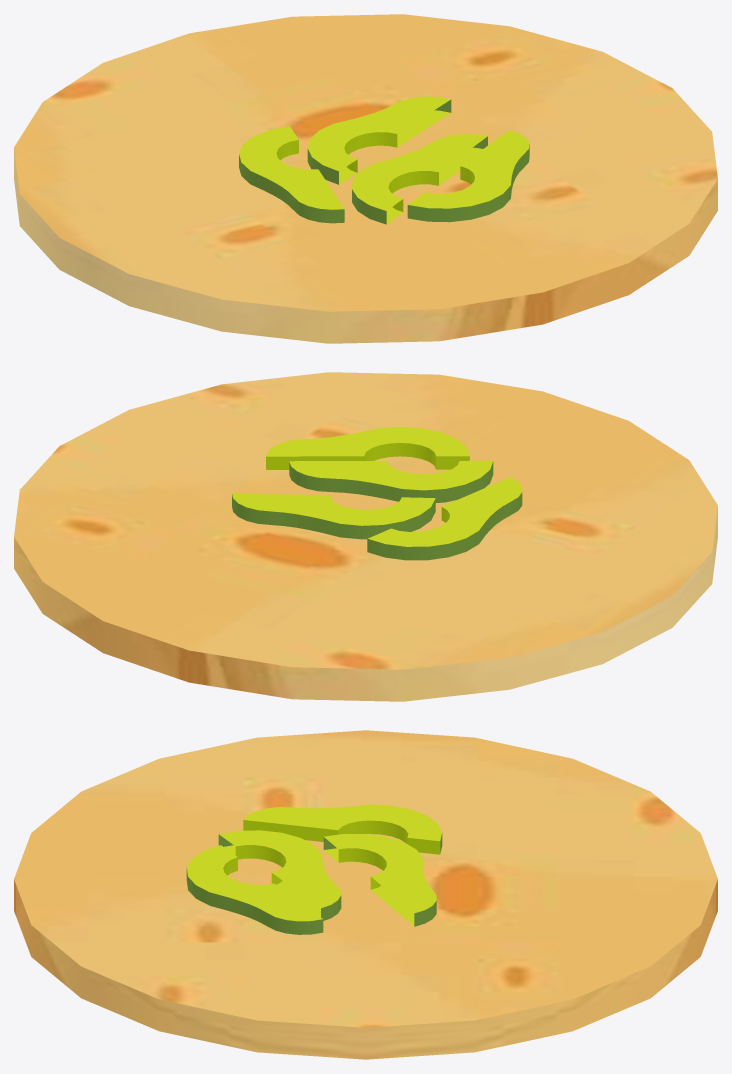
The model's file is taco_Aguacate.glb.
The picture shows the model from 3 angles, top to bottom: view 1: azimuth 30°, elevation 25°; view 2: azimuth 150°, elevation 25°; view 3: azimuth 270°, elevation 25°; orthographic projection.
Visible parts, largest first — view 1: tortilla.002, Avocado_Slice_Avocado_0; view 2: tortilla.002, Avocado_Slice_Avocado_0; view 3: tortilla.002, Avocado_Slice_Avocado_0.
Part boxes in pixels (x1,y1,x2,y2): tortilla.002: (14, 14, 717, 343); Avocado_Slice_Avocado_0: (239, 96, 529, 224); tortilla.002: (14, 372, 717, 701); Avocado_Slice_Avocado_0: (232, 426, 522, 560); tortilla.002: (14, 730, 717, 1059); Avocado_Slice_Avocado_0: (186, 804, 442, 934).
Size of the model in its own units: 0.2118 by 0.0169 by 0.2118.
Materials: 2 (2 with a texture image).
